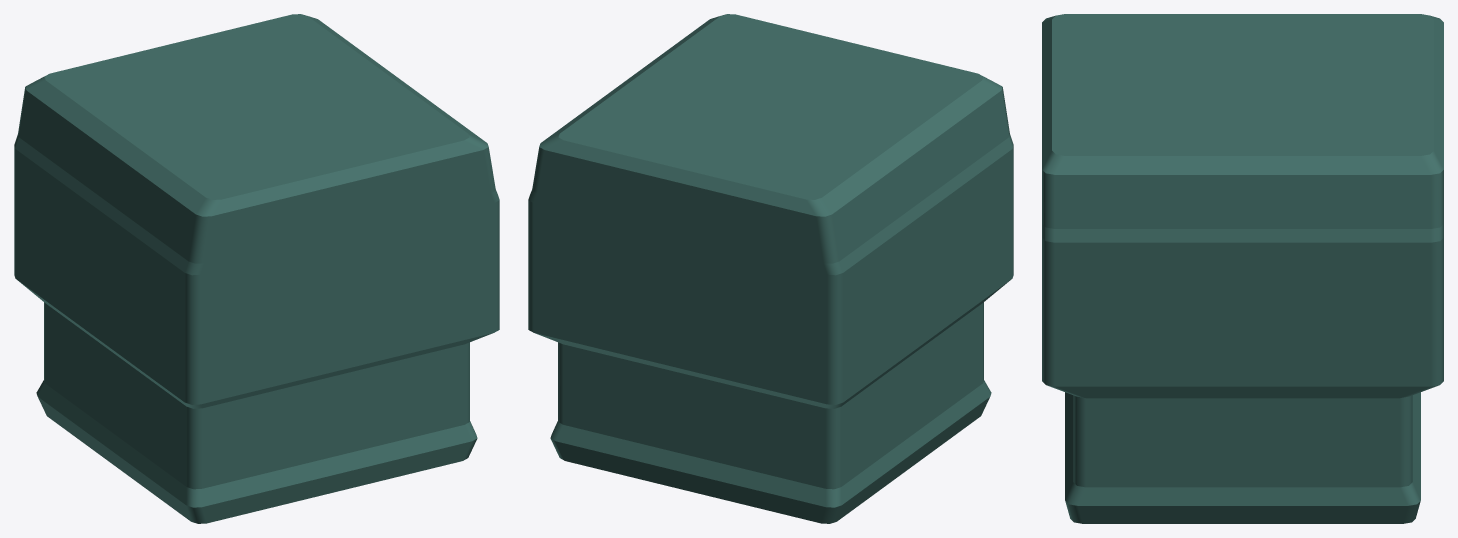
File: machine-packer-unit.glb
3 views of the same model, side by side, from view 1: azimuth 30°, elevation 25°; view 2: azimuth 150°, elevation 25°; view 3: azimuth 270°, elevation 25° (orthographic). The views are drawn at different scales.
Parts seen in each view (by area): view 1: Machine-packer-unitBody; view 2: Machine-packer-unitBody; view 3: Machine-packer-unitBody.
Part boxes in pixels (x1,y1,x2,y2): Machine-packer-unitBody: (14, 14, 499, 523); Machine-packer-unitBody: (528, 14, 1013, 523); Machine-packer-unitBody: (1042, 14, 1443, 523).
Bounding box in the file's own units: 1 × 1 × 1.
